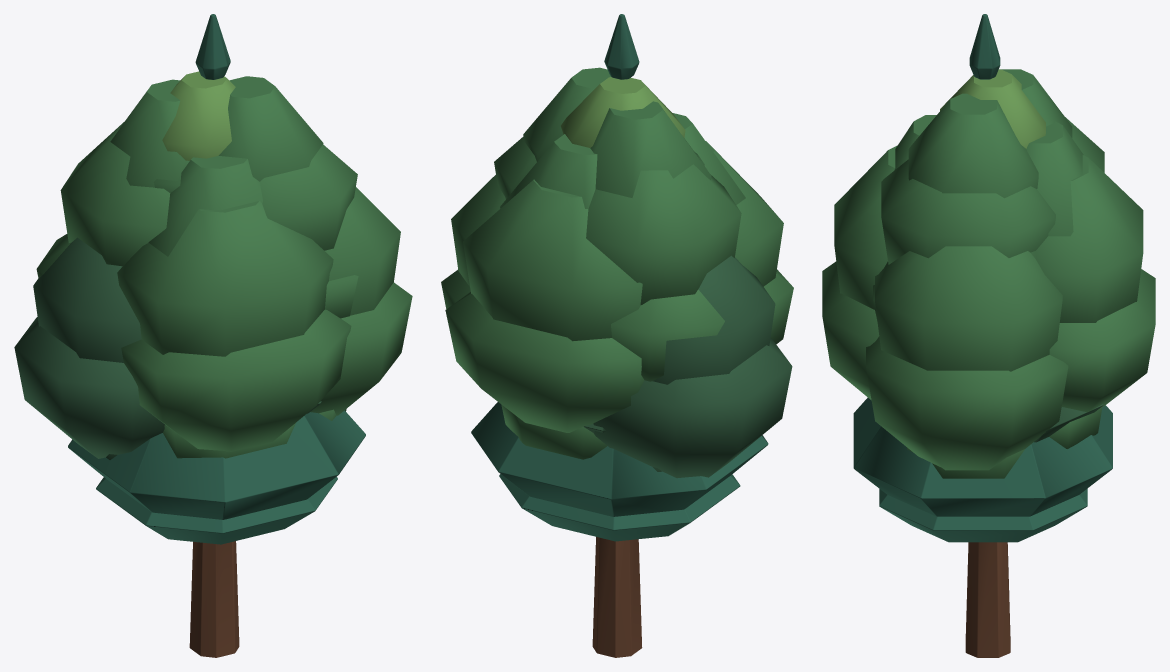
File: forest-lod1.glb
The picture shows the model from 3 angles, left to right: view 1: azimuth 30°, elevation 25°; view 2: azimuth 150°, elevation 25°; view 3: azimuth 270°, elevation 25°; orthographic projection.
Parts seen in each view (by area): view 1: 01_beech, 00_oak, 03_birch, 04_spruce, 05_young_fir, 02_young_oak; view 2: 01_beech, 00_oak, 03_birch, 04_spruce, 05_young_fir, 02_young_oak; view 3: 01_beech, 00_oak, 03_birch, 04_spruce, 05_young_fir, 02_young_oak.
Boxes of the visible parts, x1=… form: 01_beech: x1=33, y1=121, x2=400, y2=657; 00_oak: x1=14, y1=234, x2=412, y2=458; 03_birch: x1=110, y1=71, x2=323, y2=256; 04_spruce: x1=68, y1=14, x2=365, y2=519; 05_young_fir: x1=96, y1=477, x2=337, y2=544; 02_young_oak: x1=106, y1=409, x2=346, y2=459; 01_beech: x1=451, y1=136, x2=783, y2=657; 00_oak: x1=441, y1=269, x2=793, y2=478; 03_birch: x1=500, y1=67, x2=745, y2=208; 04_spruce: x1=471, y1=14, x2=768, y2=516; 05_young_fir: x1=499, y1=474, x2=740, y2=541; 02_young_oak: x1=501, y1=404, x2=661, y2=471; 01_beech: x1=834, y1=117, x2=1143, y2=657; 00_oak: x1=822, y1=261, x2=1155, y2=470; 03_birch: x1=894, y1=69, x2=1083, y2=258; 04_spruce: x1=853, y1=14, x2=1112, y2=516; 05_young_fir: x1=879, y1=488, x2=1087, y2=542; 02_young_oak: x1=907, y1=406, x2=1102, y2=478.
Bounding box in the file's own units: 11.89 × 22 × 10.51.
